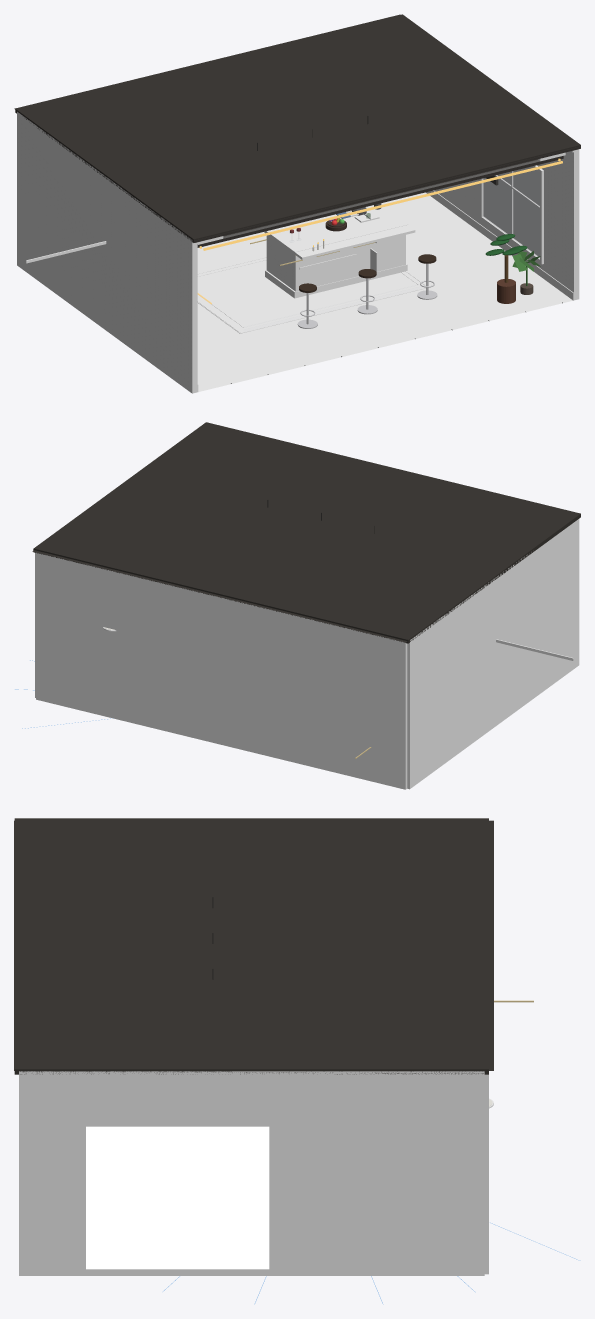
Rendered from kitchen.glb.
3 views of the same model, one above another, from view 1: azimuth 30°, elevation 25°; view 2: azimuth 150°, elevation 25°; view 3: azimuth 270°, elevation 25° (orthographic). The views are drawn at different scales.
Parts seen in each view (by area): view 1: Ceiling_Slab, Wall_Left_New, Floor_Reflection_Plane, Wall_Right_New, Rug_Main, Island_Cabinet, Window_Glass, Island_Countertop, FalseCeiling_Frame, CoveStrip_Front, Island_BarOverhang, Base_Right (+4 smaller); view 2: Ceiling_Slab, Wall_Back_New, Wall_Left_New, Ceiling_New; view 3: Ceiling_Slab, Wall_Right_New, Sky_Plane, Ceiling_New, Wall_Back_New.
Part boxes in pixels (left/top/right/bottom): Ceiling_Slab: left=15, top=14, right=580, bottom=242; Wall_Left_New: left=17, top=111, right=197, bottom=393; Floor_Reflection_Plane: left=197, top=192, right=571, bottom=390; Wall_Right_New: left=434, top=149, right=579, bottom=300; Rug_Main: left=197, top=255, right=431, bottom=333; Island_Cabinet: left=266, top=235, right=405, bottom=291; Window_Glass: left=483, top=167, right=539, bottom=258; Island_Countertop: left=264, top=205, right=407, bottom=254; FalseCeiling_Frame: left=197, top=156, right=563, bottom=247; CoveStrip_Front: left=203, top=161, right=562, bottom=250; Island_BarOverhang: left=294, top=225, right=415, bottom=259; Base_Right: left=426, top=190, right=573, bottom=300; Ceiling_Slab: left=33, top=422, right=580, bottom=643; Wall_Back_New: left=36, top=552, right=407, bottom=789; Wall_Left_New: left=407, top=519, right=579, bottom=789; Ceiling_New: left=32, top=550, right=407, bottom=642; Ceiling_Slab: left=14, top=818, right=488, bottom=1074; Wall_Right_New: left=19, top=1071, right=484, bottom=1275; Sky_Plane: left=86, top=1126, right=269, bottom=1269; Ceiling_New: left=14, top=820, right=493, bottom=1070; Wall_Back_New: left=484, top=1074, right=488, bottom=1274.
Bounding box in the file's own units: 11.12 × 3.41 × 8.03.
